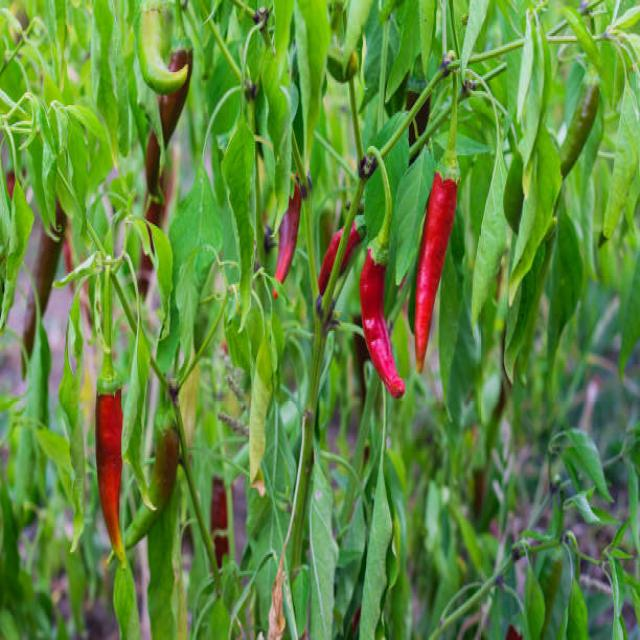Ripe: (415, 172, 458, 372), (359, 249, 405, 398), (95, 391, 125, 567), (275, 184, 301, 282)
Unripe: (125, 428, 179, 548), (138, 4, 189, 95)
